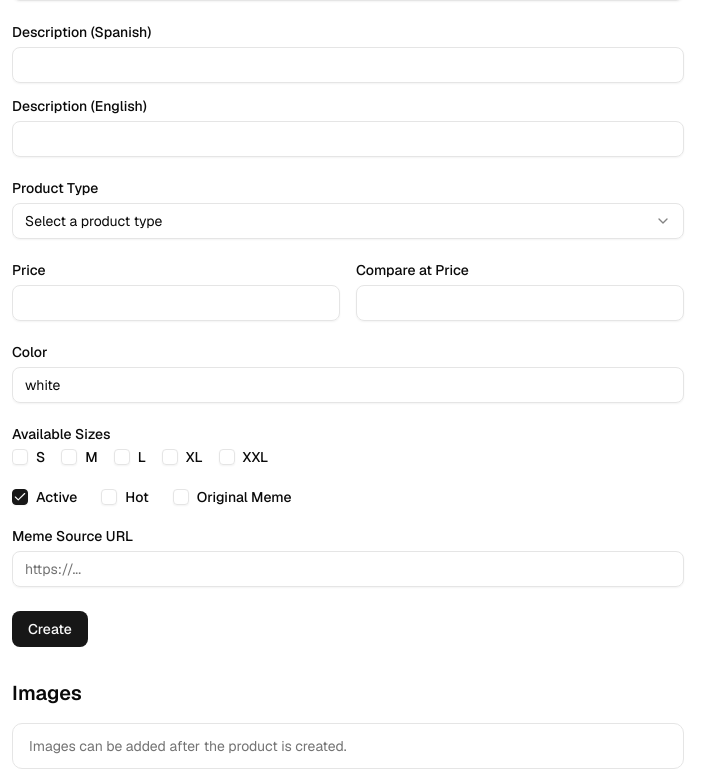
ProductForm › create mode › should validate required: productTypeId shows error when not selected
(page scrolled)
Click the button "Create" at (50, 629), box left=12, top=611, right=88, bottom=647
(page scrolled)
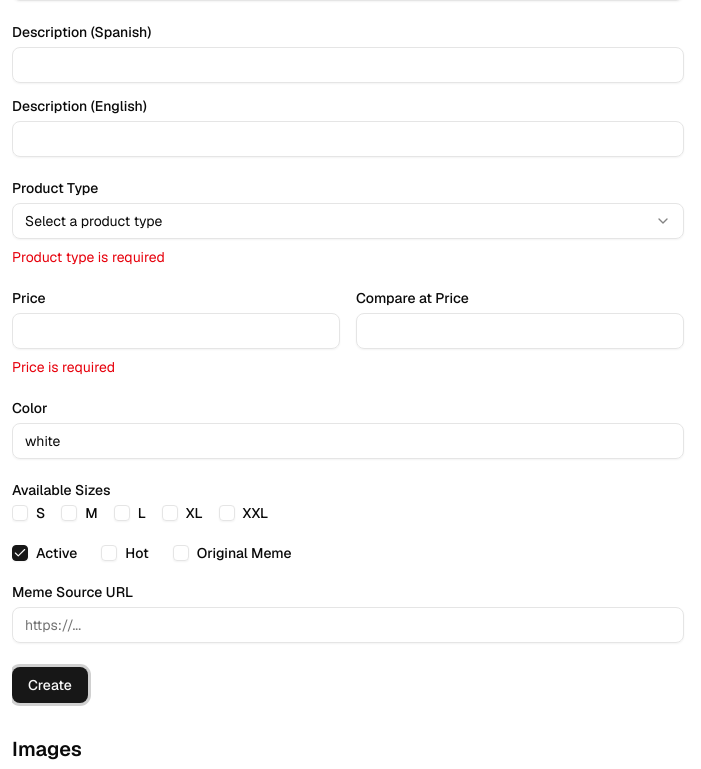
Expected: the text "Product type is required" is shown, left=12, top=248, right=165, bottom=266
